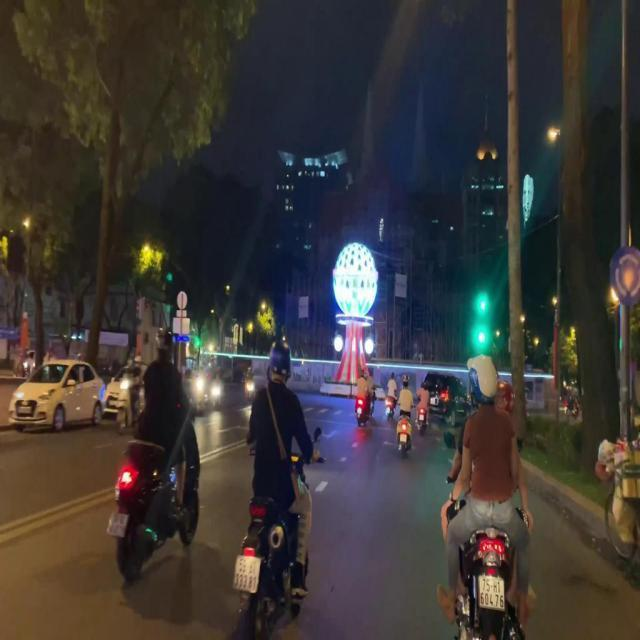303-noi-giao-nhau-chay-theo-vong-xuyen: (607, 245, 640, 308)
